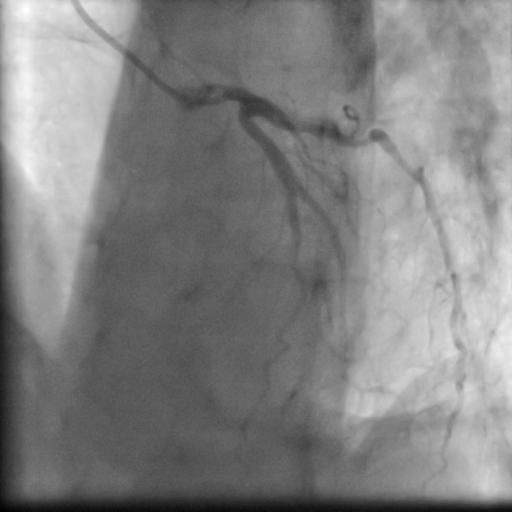Stenosis: (341, 122, 379, 151)
